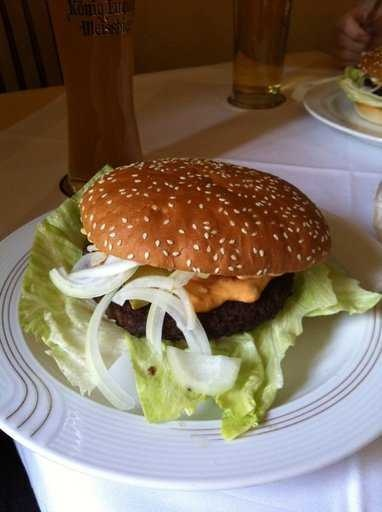hamburger: (76, 152, 339, 400)
